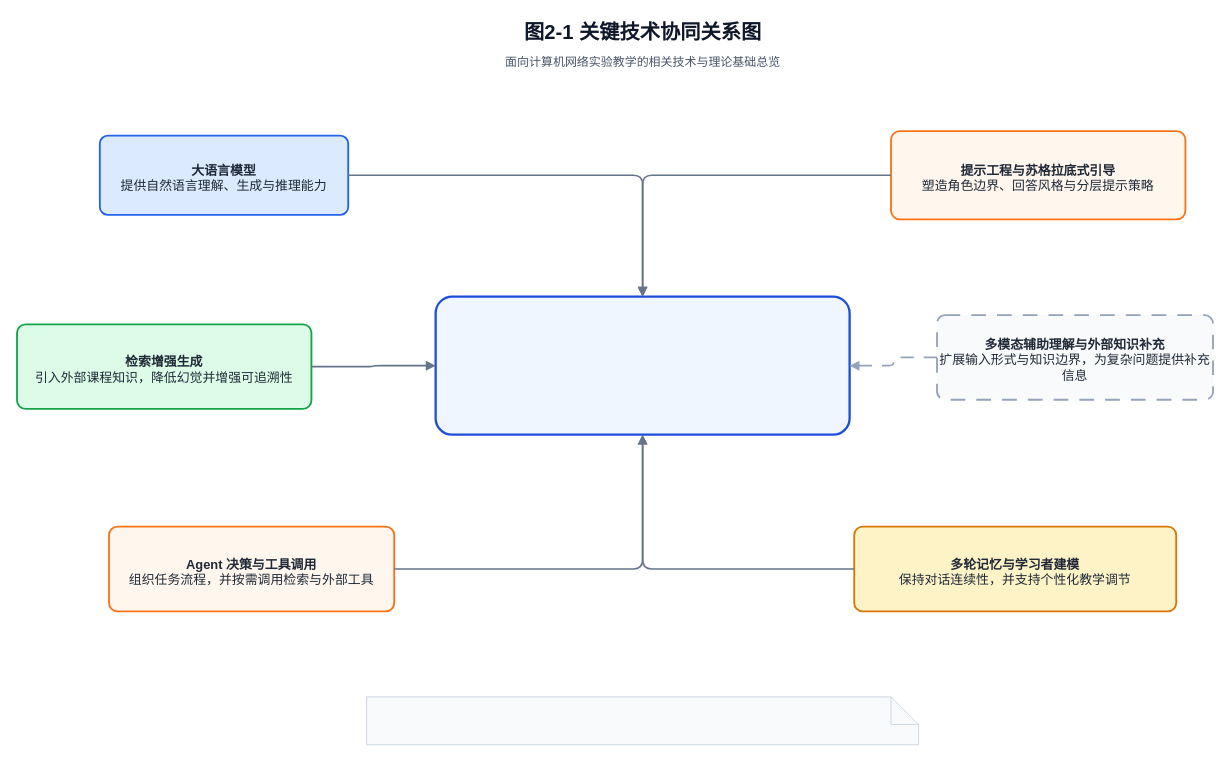
Some shapes in this 1229 by 761 pixel diagram are drawn without their labels. Each missing label, with the centre of its shape:
"注：本图概括第2章关键技术之间的协同关系，不涉及具体系统实现细节。" goes at [642,720].
"面向计算机网络实验教学的智能助教 以准确性、可追溯性、引导性与个性化为目标" goes at [642,365].
